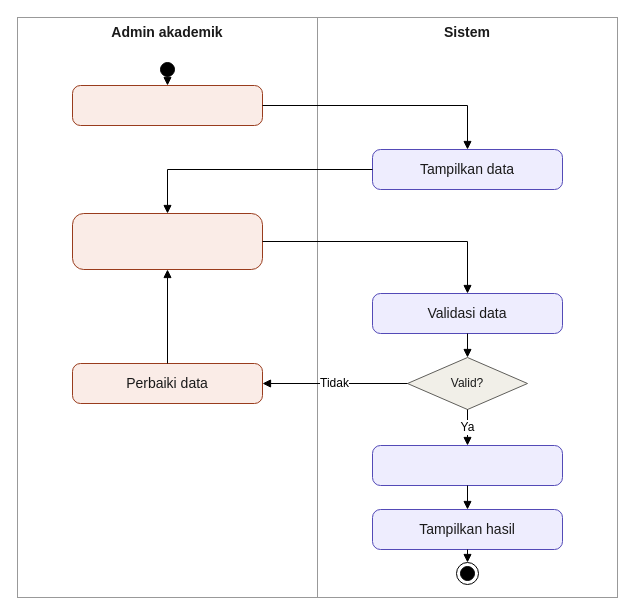
This 635x615 diagram has some shape labels left out. Here are the shapes that lost their labels. From the top down, the centre of each, then its label:
pixel 167 105: Buka menu data mhs
pixel 167 241: Pilih aksi tambah, ubah, atau hapus
pixel 467 465: Simpan data
